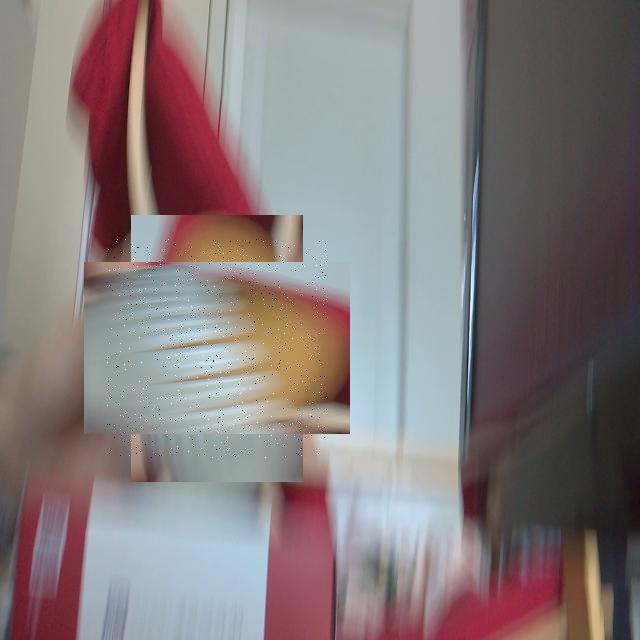pear: (107, 239, 327, 458)
